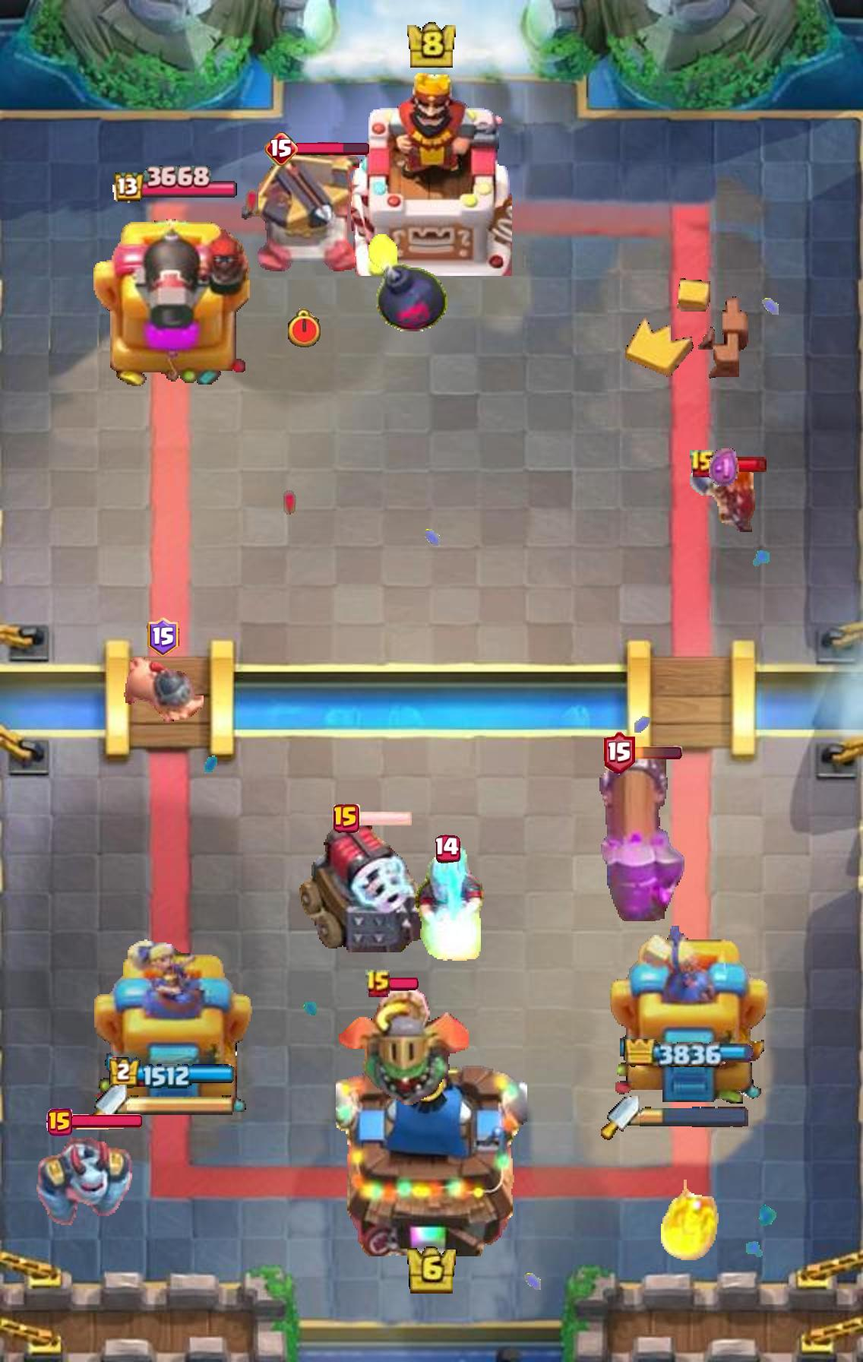bar: (69, 1114, 142, 1129), (356, 809, 413, 828), (295, 142, 370, 156), (713, 456, 769, 473), (631, 746, 682, 759), (388, 977, 419, 991)
bar-level: (603, 730, 635, 774), (146, 617, 179, 657), (264, 132, 298, 166), (689, 449, 716, 480), (365, 969, 392, 999), (333, 804, 360, 833), (46, 1108, 73, 1136), (435, 835, 461, 863)
